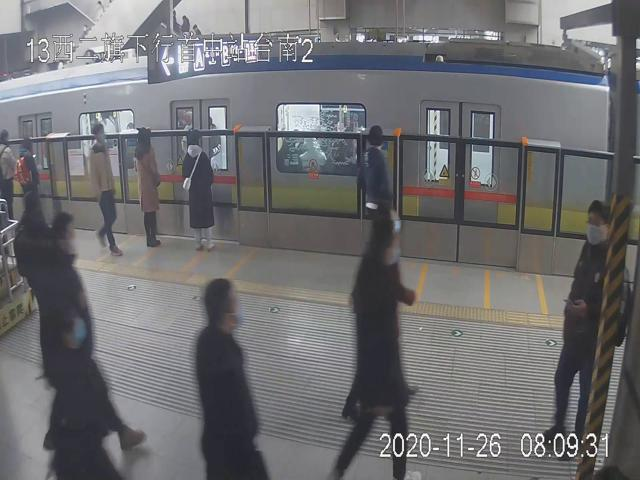person: (89, 123, 124, 255), (182, 129, 216, 253), (133, 127, 162, 248)
